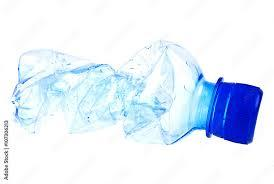plastic: (26, 44, 261, 147)
